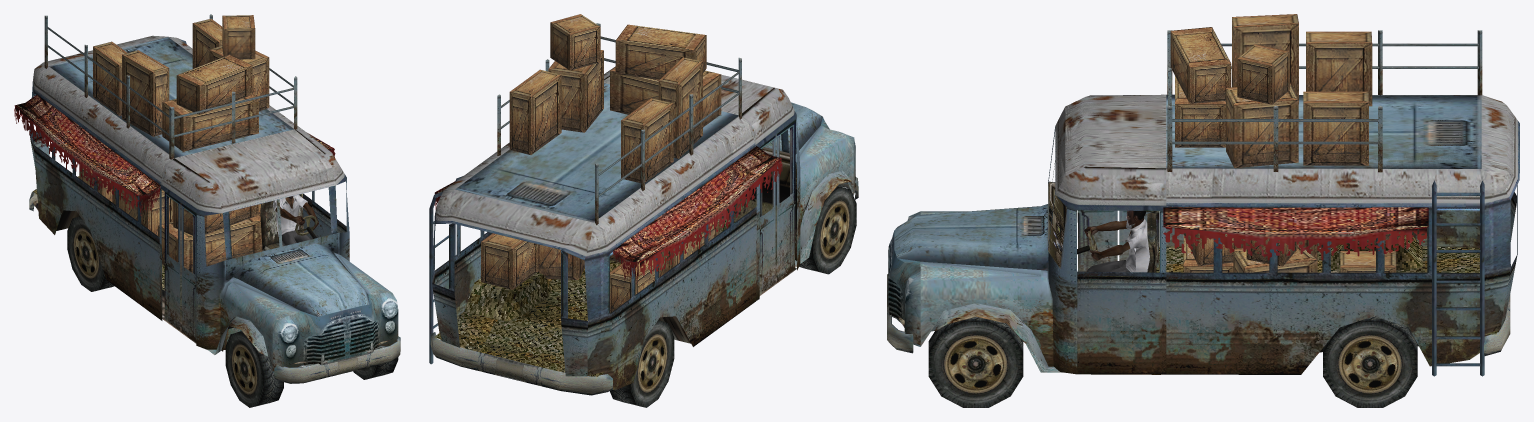
Rendered from Nbus1.glb.
The picture shows the model from 3 angles, left to right: view 1: azimuth 30°, elevation 25°; view 2: azimuth 150°, elevation 25°; view 3: azimuth 270°, elevation 25°; orthographic projection. The views are drawn at different scales.
Visible parts, largest first — view 1: _Nbus1; view 2: _Nbus1; view 3: _Nbus1.
Boxes of the visible parts, left/top/right/bottom form: _Nbus1: left=14, top=14, right=400, bottom=407; _Nbus1: left=429, top=14, right=858, bottom=407; _Nbus1: left=887, top=14, right=1519, bottom=407.
Size of the model in its own units: 3.63 by 4.78 by 8.12.
Materials: 6 (6 with a texture image).
